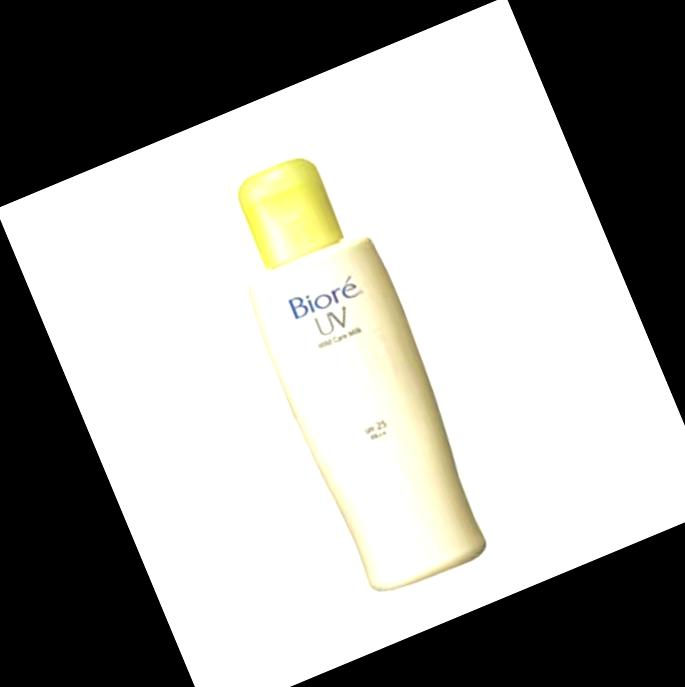cosmetic: (200, 137, 502, 602)
